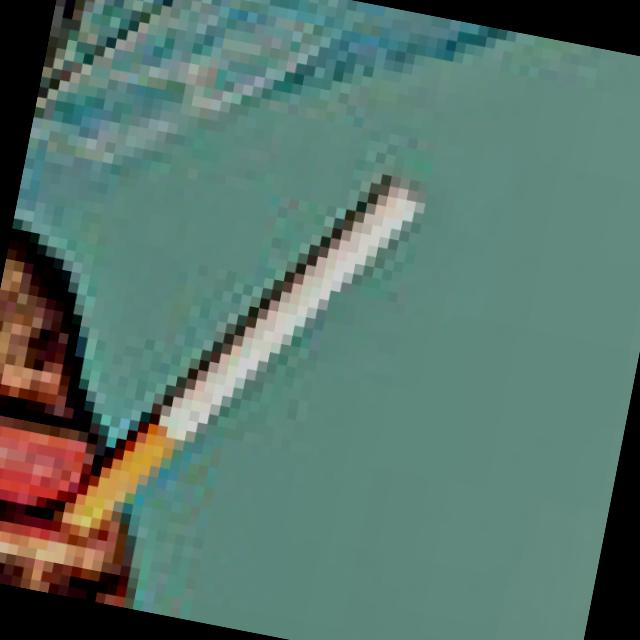cigarette: (88, 122, 438, 596)
